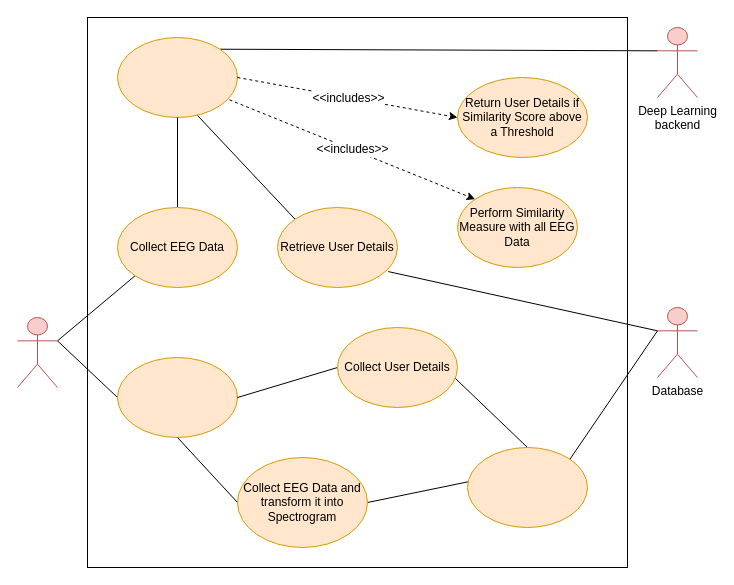
This 734x585 diagram has some shape labels left out. Here are the shapes that lost their labels. From the top down, the box of each, then its label:
(116, 36, 238, 118): Authenticate
(16, 316, 58, 388): User
(116, 356, 238, 438): Registration
(466, 446, 588, 528): Store User Details
